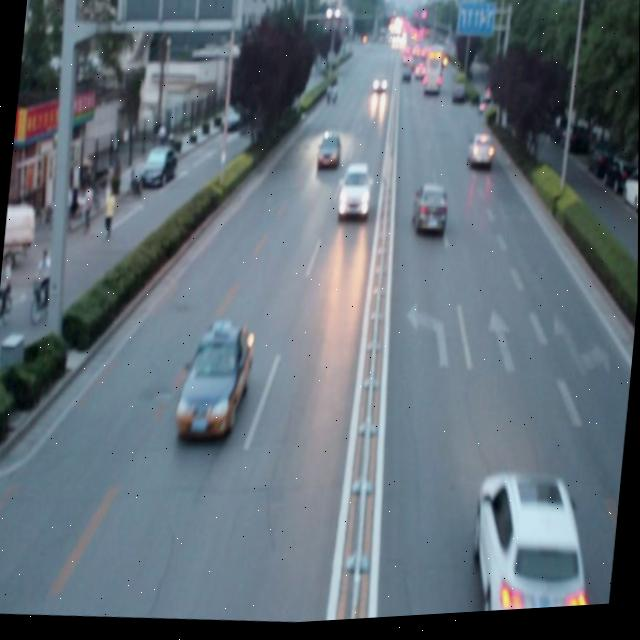car: (464, 464, 599, 618), (172, 319, 256, 448), (410, 185, 450, 244), (336, 164, 372, 226), (313, 131, 343, 179), (465, 134, 496, 175)
